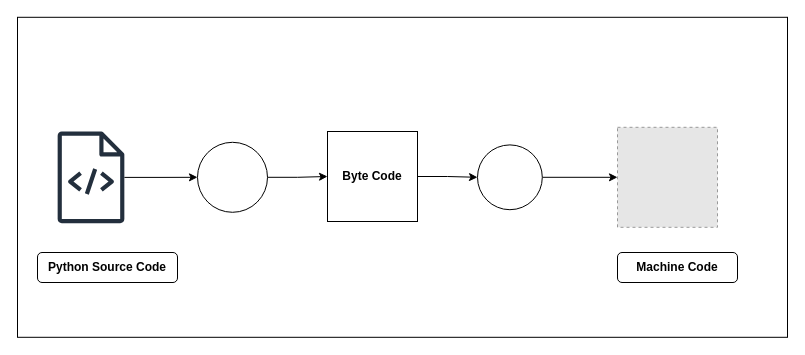
This 805x355 diagram has some shape labels left out. Grey dashed boxes stand in for pictures. Each missing label, with the box of its shape:
cpython: (196, 141, 268, 212)
Python Virtual Machine: (476, 144, 542, 210)
